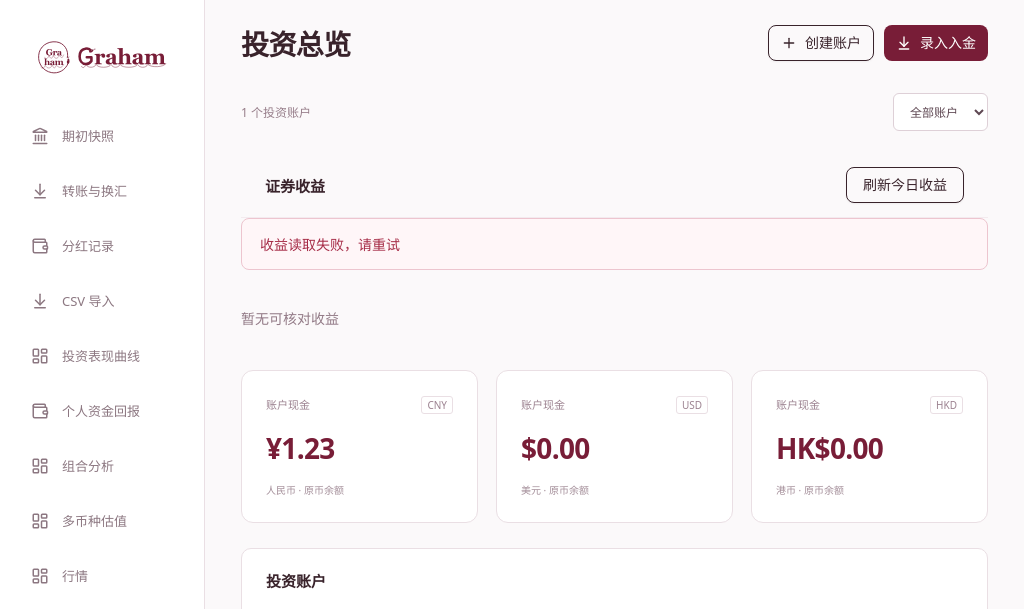
Scenario: 组合分析以文字显示证券和未分类，缺价证券不绘制贡献条，维度可切换
(page scrolled)
Click the button "组合分析". click: point(102, 466)
box: 18,443 -> 186,488
(page scrolled)
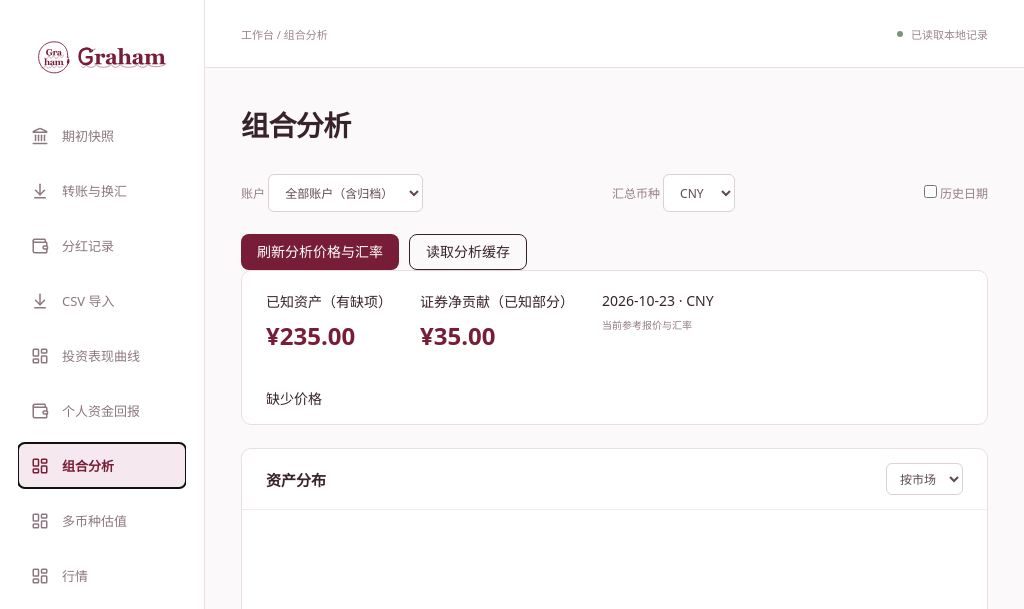
Select "按行业" in the dropdown named "分布维度". click: point(924, 479)
box: 886,463 -> 963,495
(page scrolled)
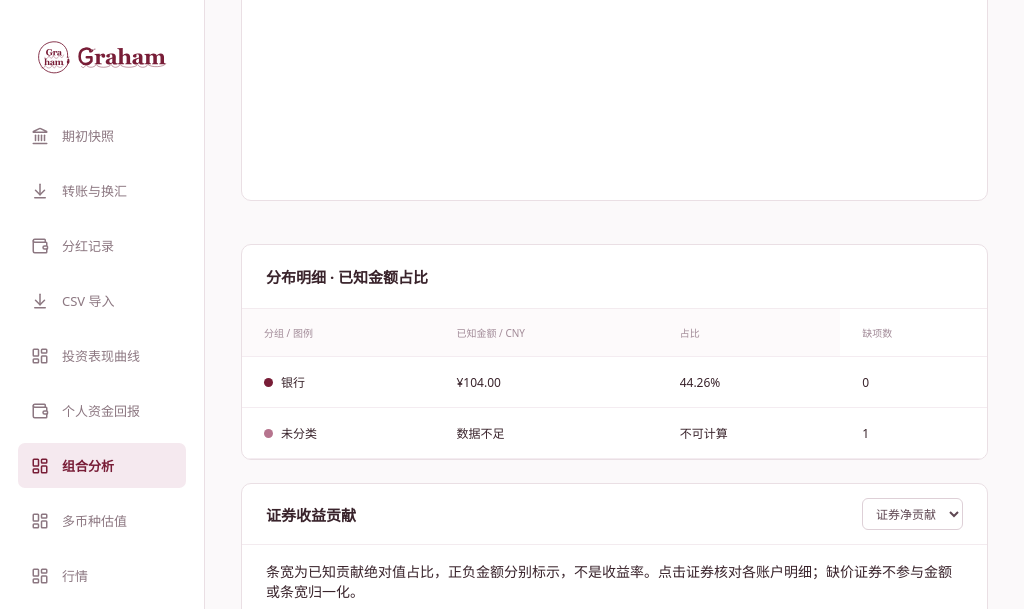
Expected: the table named "资产分布明细" shows "未分类", 281,425 -> 317,442
